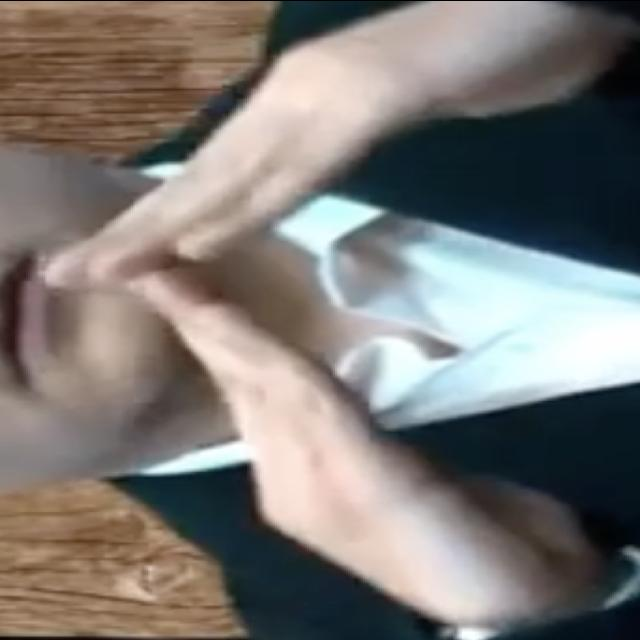casa: (36, 0, 580, 625)
